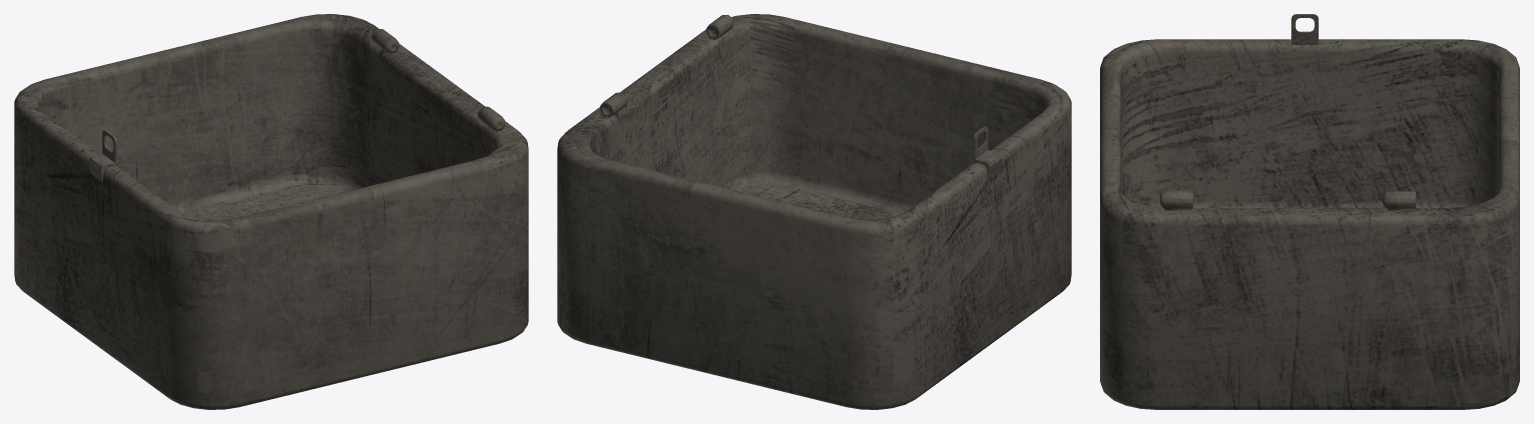
The model's file is Safe2.fbx.
3 views of the same model, side by side, from view 1: azimuth 30°, elevation 25°; view 2: azimuth 150°, elevation 25°; view 3: azimuth 270°, elevation 25° (orthographic). The views are drawn at different scales.
Visible parts, largest first — view 1: safe2; view 2: safe2; view 3: safe2.
Boxes of the visible parts, x1,y1,x2,y2 form: safe2: [14, 14, 528, 409]; safe2: [557, 14, 1071, 409]; safe2: [1100, 14, 1519, 409].
Bounding box in the file's own units: 158 × 90.34 × 154.
